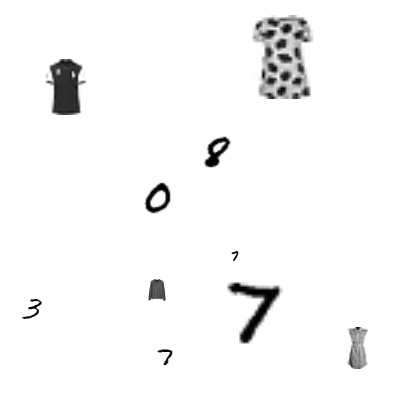0: (137, 177, 179, 219)
3: (19, 294, 47, 322)
7: (213, 262, 297, 346), (155, 344, 177, 366), (228, 248, 242, 262)
8: (195, 131, 237, 173)
Dress: (241, 15, 325, 99), (336, 327, 378, 369)
Pullover: (146, 279, 168, 301)
T-shirt/top: (38, 59, 94, 115)
